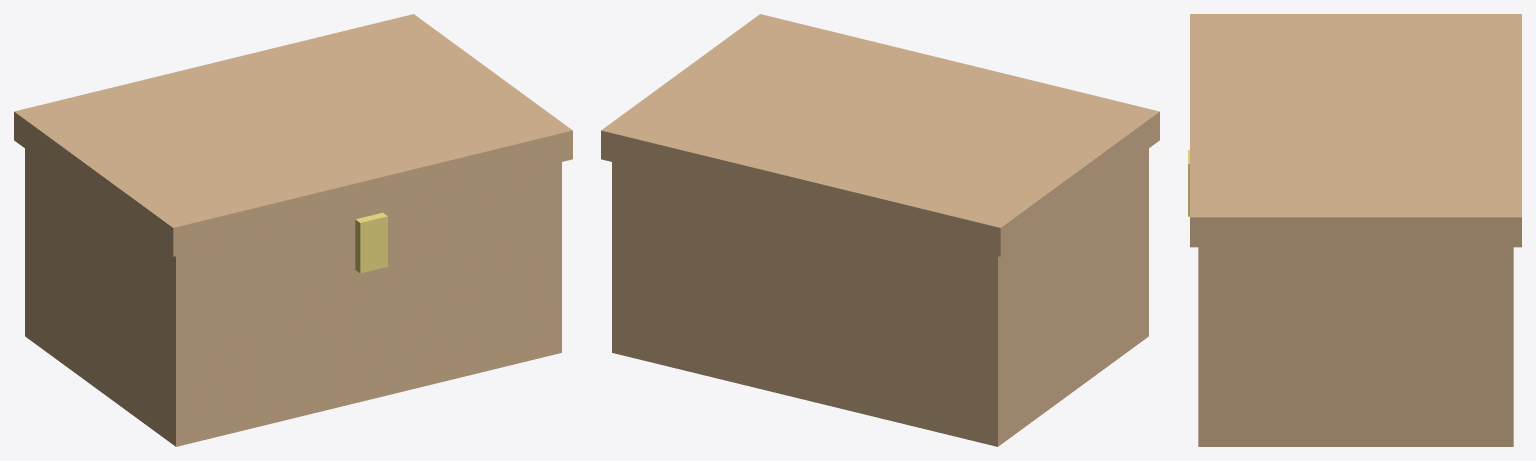
File: seed_storage_box.glb
3 renders of one model, left to right at view 1: azimuth 30°, elevation 25°; view 2: azimuth 150°, elevation 25°; view 3: azimuth 270°, elevation 25°, orthographic. The views are drawn at different scales.
Parts seen in each view (by area): view 1: SeedStorageBox; view 2: SeedStorageBox; view 3: SeedStorageBox.
Boxes of the visible parts, x1,y1,x2,y2 form: SeedStorageBox: (14, 14, 572, 446); SeedStorageBox: (601, 14, 1159, 446); SeedStorageBox: (1188, 14, 1521, 446).
Bounding box in the file's own units: 0.58 × 0.31 × 0.4025.
